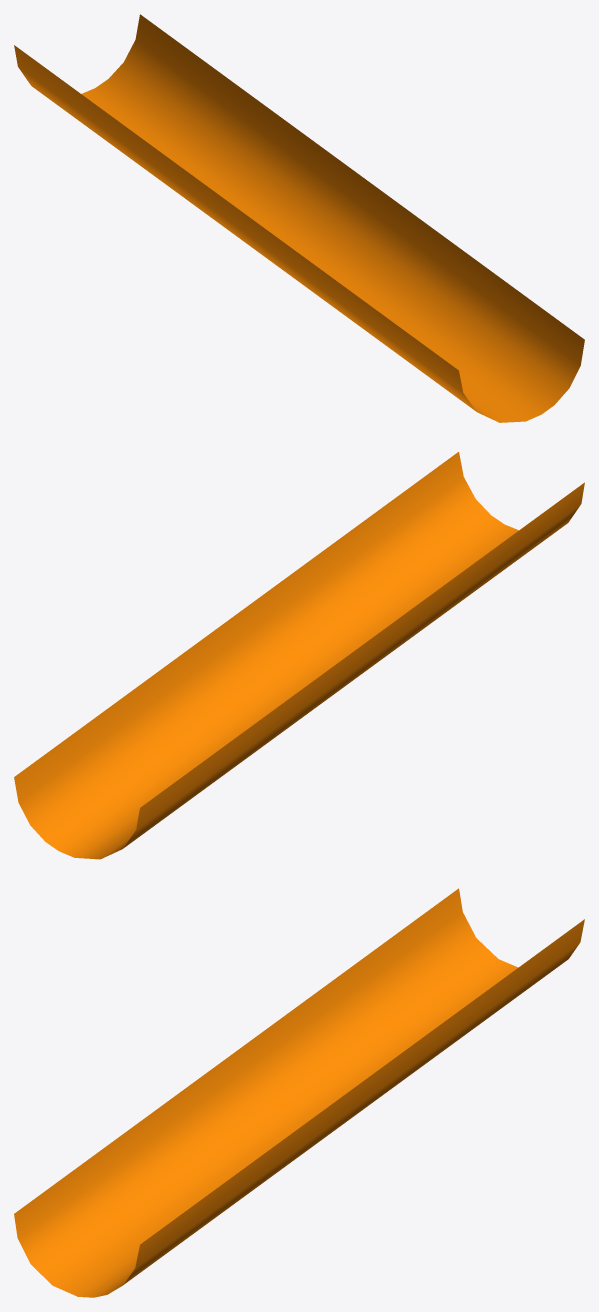
Rendered from original-24.obj.
The picture shows the model from 3 angles, top to bottom: view 1: azimuth 30°, elevation 25°; view 2: azimuth 150°, elevation 25°; view 3: azimuth 330°, elevation 25°; orthographic projection.
Parts seen in each view (by area): view 1: Group22/mesh23/mesh23-geometry#mesh23-geometry; view 2: Group22/mesh23/mesh23-geometry#mesh23-geometry; view 3: Group22/mesh23/mesh23-geometry#mesh23-geometry.
Boxes of the visible parts, x1=… form: Group22/mesh23/mesh23-geometry#mesh23-geometry: x1=14, y1=14, x2=584, y2=422; Group22/mesh23/mesh23-geometry#mesh23-geometry: x1=14, y1=452, x2=584, y2=859; Group22/mesh23/mesh23-geometry#mesh23-geometry: x1=14, y1=888, x2=584, y2=1297.
Bounding box in the file's own units: 0.0284 × 0.0142 × 0.1745.
